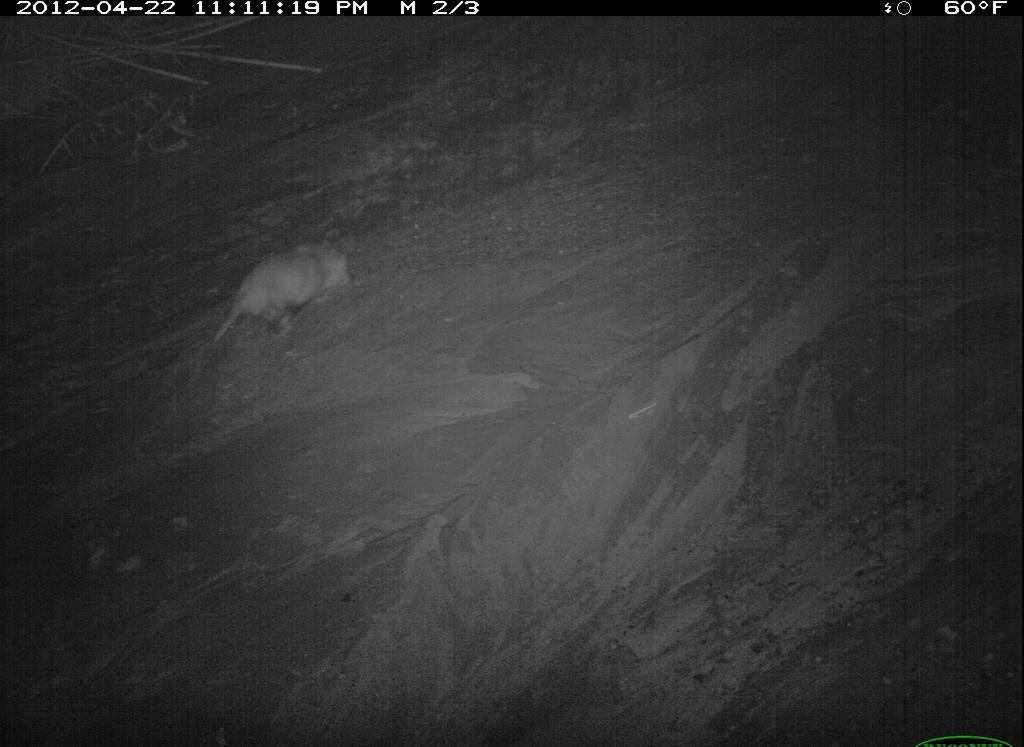opossum: (410, 472, 710, 705)
